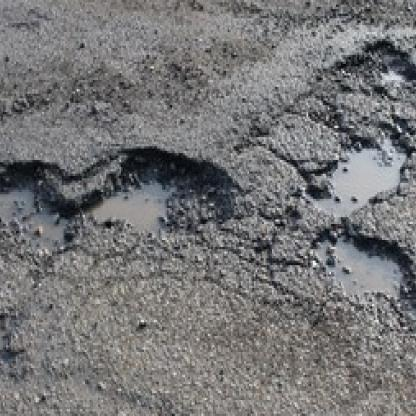pothole: (87, 142, 239, 245), (305, 124, 415, 220), (311, 226, 416, 325), (0, 158, 79, 261), (338, 37, 416, 101)
